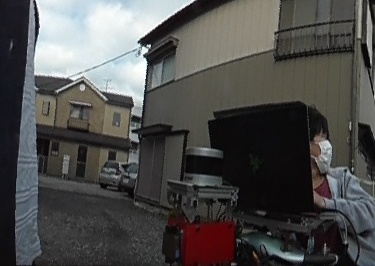person: (301, 104, 375, 266)
